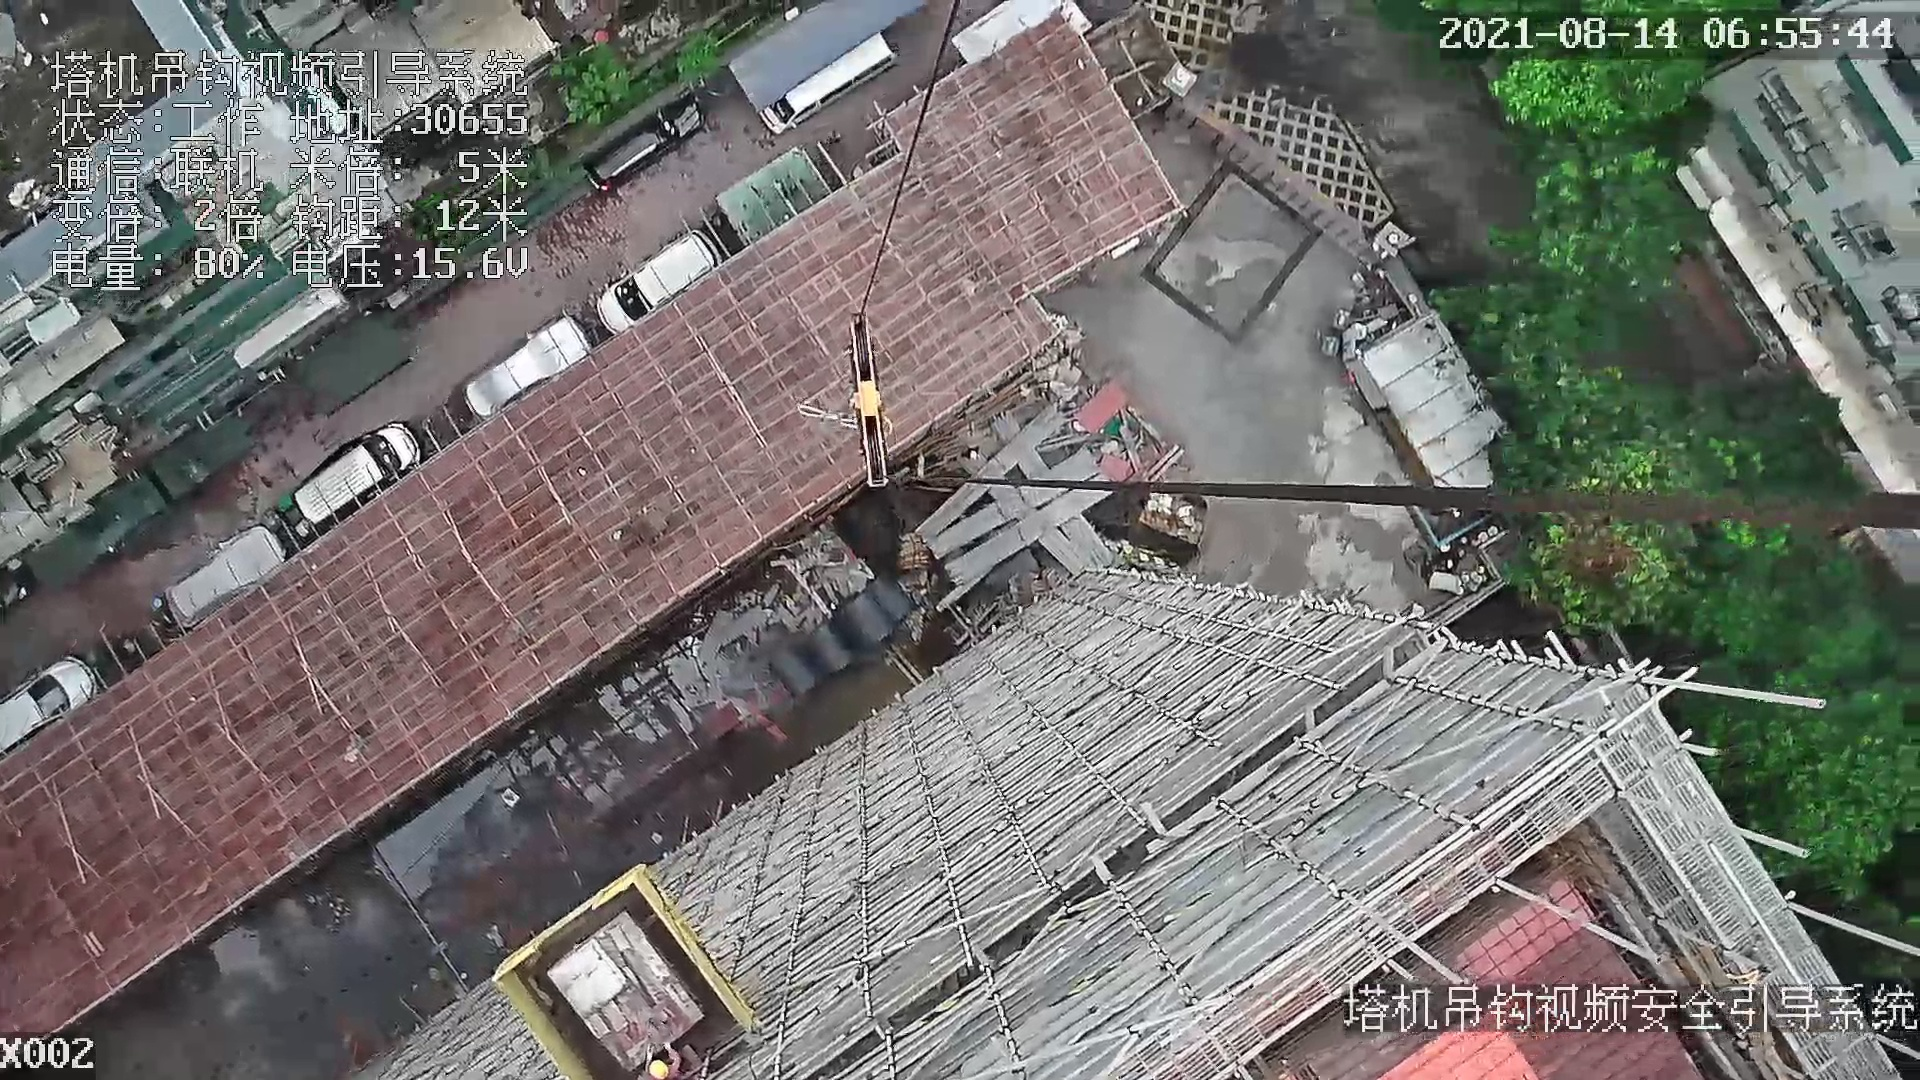board: (543, 908, 700, 1073)
helmet: (648, 1059, 668, 1079)
hook: (845, 310, 901, 490)
person: (641, 1041, 682, 1080)
rebar: (916, 407, 1065, 545), (928, 446, 1100, 561), (945, 474, 1113, 587), (1060, 515, 1109, 564), (1039, 527, 1082, 573)
